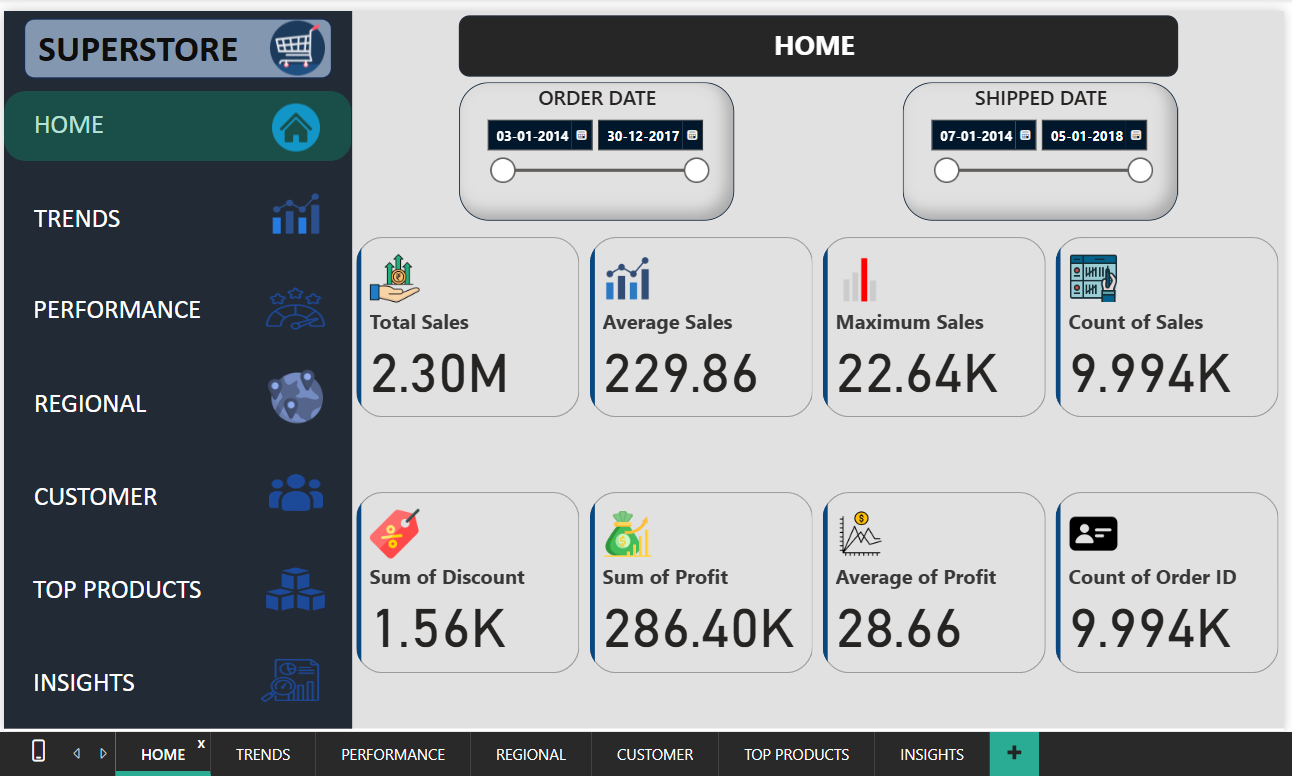

The page's visual inventory and layout, read from the dashboard file:
{"tool":"powerbi","page":{"name":"HOME","canvas":[1280,720],"ordinal":0},"visuals":[{"type":"cardVisual","fields":{"Data":["Sum(Sample - Superstore.Sales)","Avg(Sample - Superstore.Sales)","Max(Sample - Superstore.Sales)","CountNonNull(Sample - Superstore.Sales)"]},"box":[347.2,220.9,932.5,190.2],"z":0},{"type":"textbox","box":[764.4,9.8,96.9,49.1],"z":1},{"type":"cardVisual","fields":{"Data":["Sum(Sample - Superstore.Discount)","Sum(Sample - Superstore.Profit)","Avg(Sample - Superstore.Profit)","CountNonNull(Sample - Superstore.Order ID)"]},"box":[347.2,476.1,932.5,191.4],"z":2},{"type":"slicer","title":"ORDER DATE","fields":{"Values":["Sample - Superstore.Order Date"]},"box":[455.2,71.2,274.8,138.7],"z":3},{"type":"slicer","title":"SHIPPED DATE","fields":{"Values":["Sample - Superstore.Ship Date"]},"box":[898.2,71.2,274.8,138.7],"z":4},{"type":"shape","box":[0,80,347.5,70],"z":5},{"type":"actionButton","box":[0,175,347.5,70],"z":6},{"type":"actionButton","box":[0,262.5,347.5,70],"z":7},{"type":"actionButton","box":[0,350,347.5,70],"z":8},{"type":"actionButton","box":[0,450,347.5,70],"z":9},{"type":"actionButton","box":[0,536.2,347.5,70],"z":10},{"type":"actionButton","box":[0,632.5,347.5,70],"z":11}]}

Visuals, with their boxes on the page's 1280x720 design canvas (x1, y1, x2, y2). These are canvas units, not pixel positions in the 1292x776 screenshot, which may show the page scaled, cropped or inside an application window:
cardVisual - Sum(Sample - Superstore.Sales) x Avg(Sample - Superstore.Sales): bbox=(347, 221, 1280, 411)
textbox: bbox=(764, 10, 861, 59)
cardVisual - Sum(Sample - Superstore.Discount) x Sum(Sample - Superstore.Profit): bbox=(347, 476, 1280, 668)
"ORDER DATE" slicer: bbox=(455, 71, 730, 210)
"SHIPPED DATE" slicer: bbox=(898, 71, 1173, 210)
shape: bbox=(0, 80, 348, 150)
actionButton: bbox=(0, 175, 348, 245)
actionButton: bbox=(0, 262, 348, 332)
actionButton: bbox=(0, 350, 348, 420)
actionButton: bbox=(0, 450, 348, 520)
actionButton: bbox=(0, 536, 348, 606)
actionButton: bbox=(0, 632, 348, 702)
